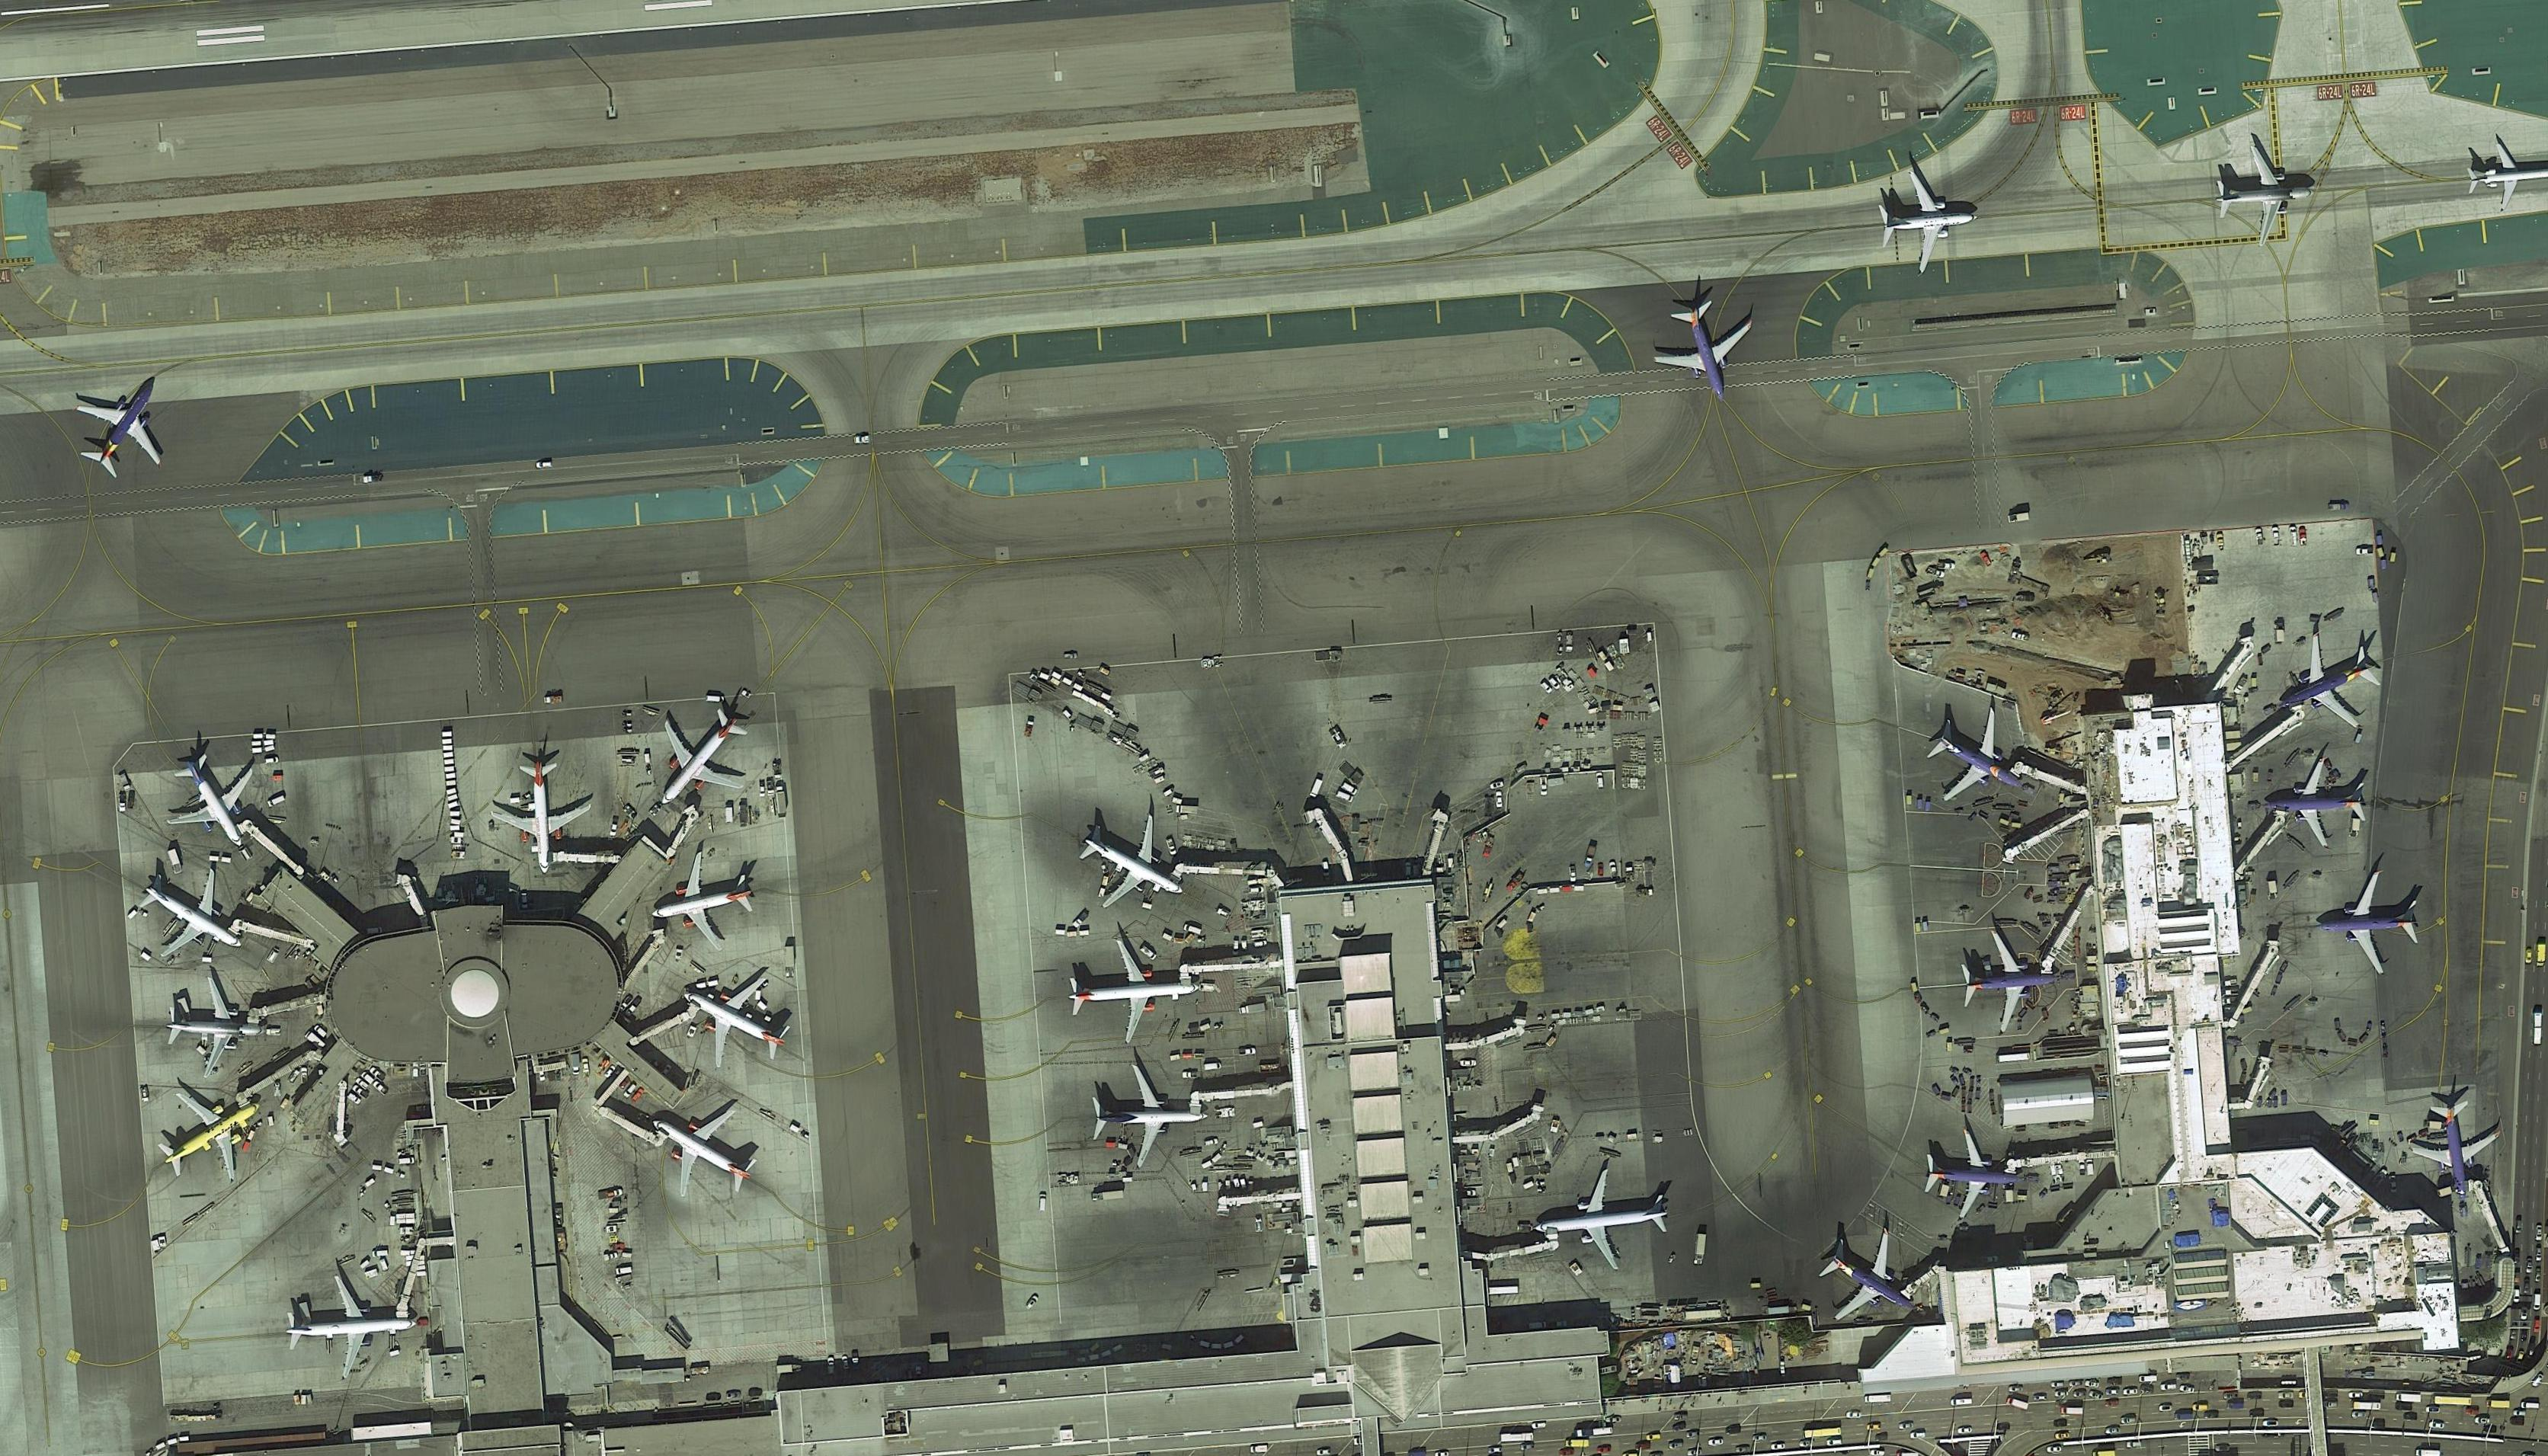plane: (617, 680, 778, 837), (629, 1071, 784, 1228), (1054, 789, 1213, 939), (117, 841, 271, 993), (1902, 680, 2051, 833), (135, 1061, 283, 1214), (1795, 1208, 1948, 1354), (661, 950, 811, 1090), (53, 353, 197, 498), (138, 734, 283, 878), (2258, 613, 2403, 757), (1641, 290, 1773, 421), (1525, 1161, 1674, 1276), (283, 1268, 421, 1387), (1066, 933, 1203, 1051), (644, 843, 760, 968), (1088, 1058, 1208, 1174), (156, 969, 270, 1083), (1874, 162, 1985, 280), (485, 760, 597, 875), (2210, 142, 2315, 254), (1916, 1122, 2031, 1224), (2313, 868, 2420, 977), (1958, 926, 2061, 1038), (2258, 754, 2371, 853), (2403, 1096, 2508, 1202), (2460, 136, 2547, 220)
